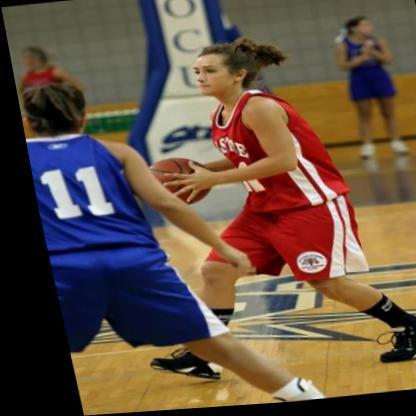basketball: (141, 156, 208, 209)
